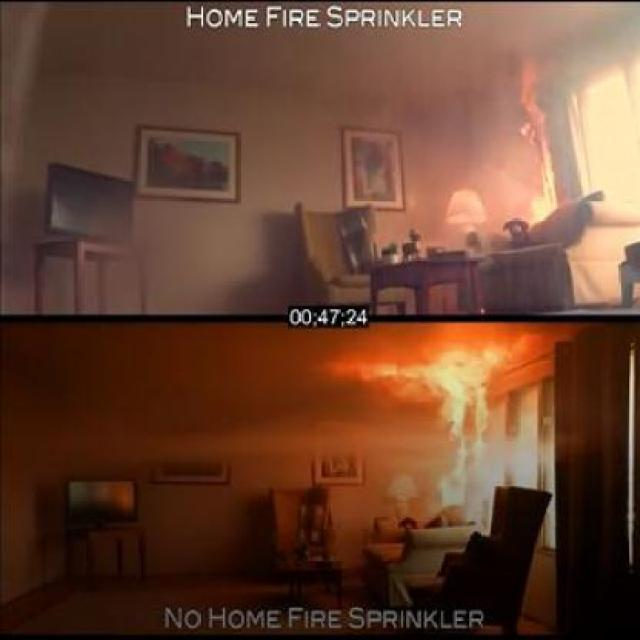Fire: (328, 354, 488, 402), (442, 411, 472, 506), (534, 132, 556, 218), (517, 54, 540, 118), (494, 334, 536, 360), (469, 406, 489, 440)
